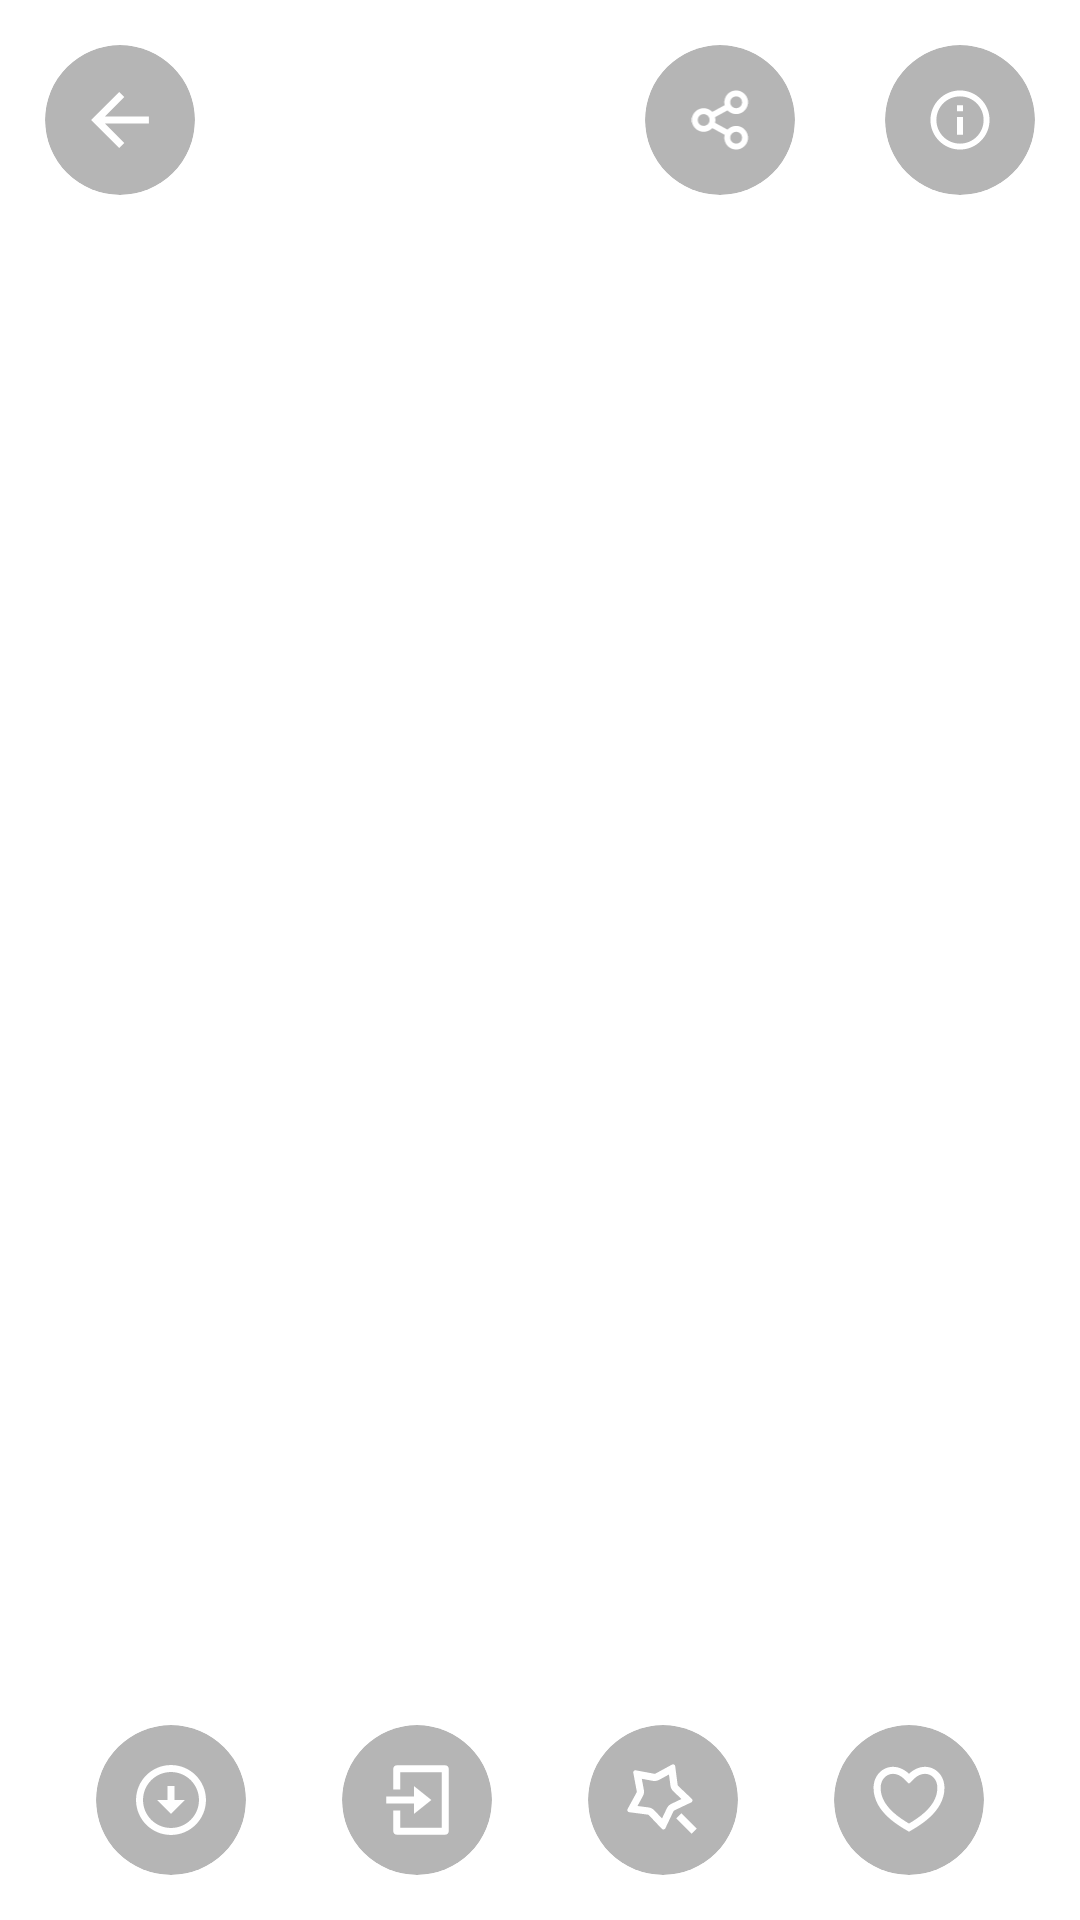

Icon click points for this 1080w x 1920h phone screenshot, format point (x, y):
about: point (960, 120)
back: point (120, 120)
customize: point (662, 1799)
download: point (171, 1800)
liked: point (909, 1799)
put: point (417, 1800)
share: point (719, 120)
